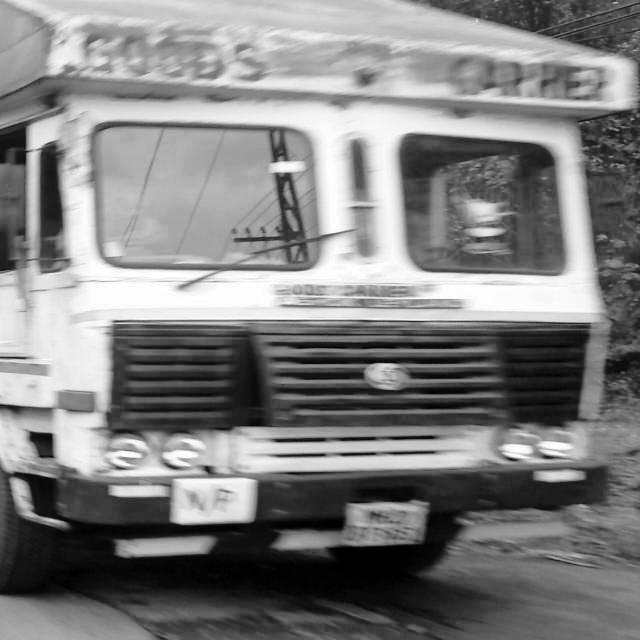HCV: (0, 8, 640, 589)
